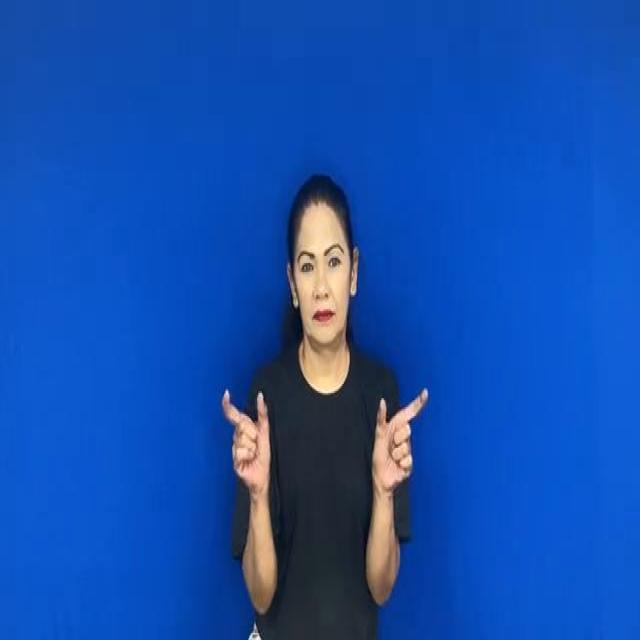crab: (210, 374, 286, 508), (364, 388, 438, 488)
